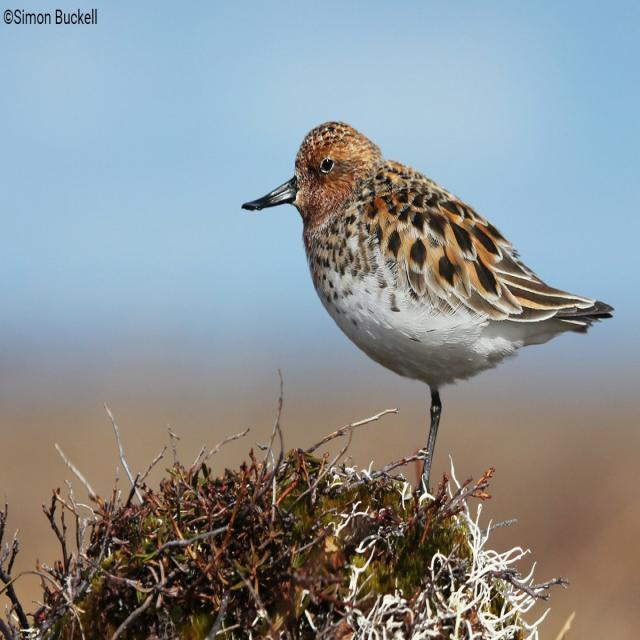Sandpiper: (240, 111, 602, 501)
